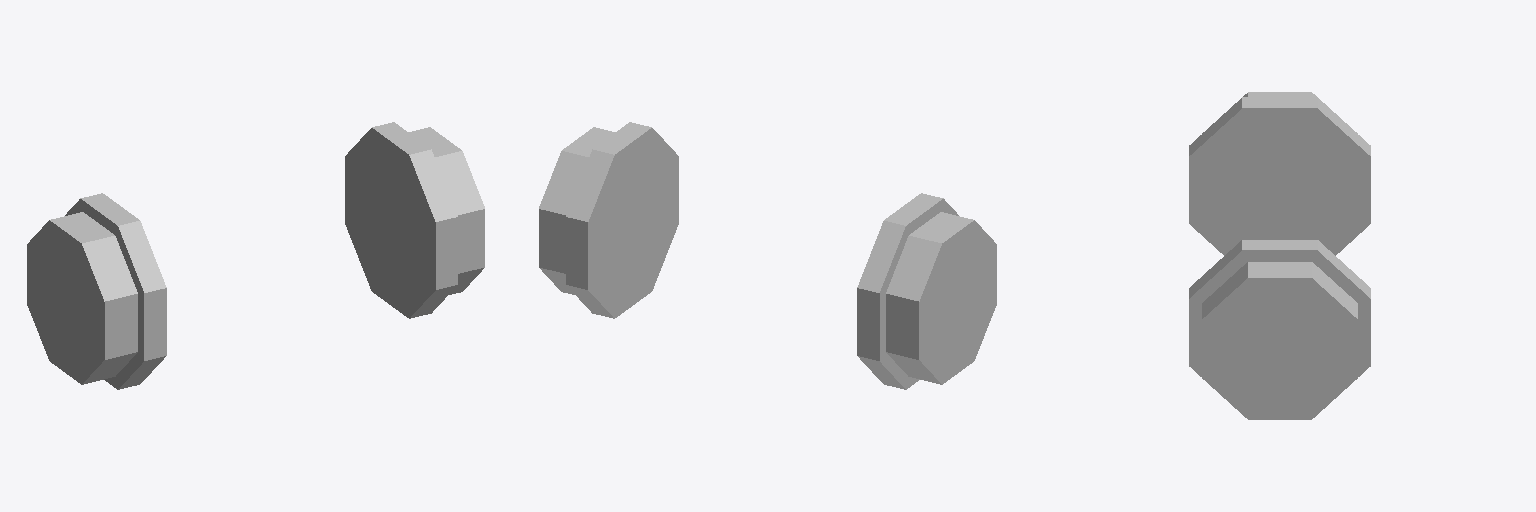
File: wheels.obj
3 renders of one model, left to right at view 1: azimuth 30°, elevation 25°; view 2: azimuth 150°, elevation 25°; view 3: azimuth 270°, elevation 25°, orthographic.
Parts seen in each view (by area): view 1: s_create; view 2: s_create; view 3: s_create.
Part boxes in pixels (bbox=[...]): s_create: bbox=[27, 122, 484, 389]; s_create: bbox=[539, 122, 996, 389]; s_create: bbox=[1189, 92, 1370, 419].
Bounding box in the file's own units: 2.12 × 0.875 × 0.875.